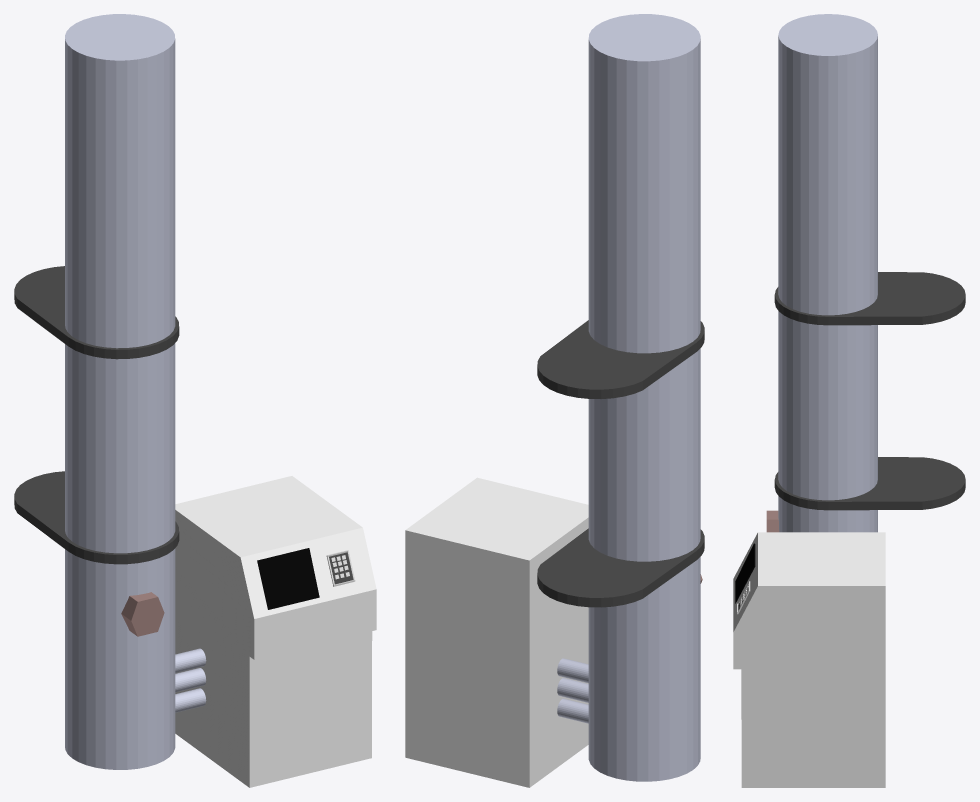
File: secretaly.fbx
3 views of the same model, side by side, from view 1: azimuth 30°, elevation 25°; view 2: azimuth 150°, elevation 25°; view 3: azimuth 270°, elevation 25° (orthographic). The views are drawn at different scales.
Visible parts, largest first — view 1: 円柱, 立方体, 円柱.001, 円柱.002, 立方体.002, 立方体.001; view 2: 円柱, 立方体, 円柱.001, 円柱.002, 円柱.004, 円柱.006, 円柱.003; view 3: 円柱, 立方体, 円柱.001, 円柱.002, 立方体.002.
Part boxes in pixels (x1,y1,x2,y2): 円柱: (65, 14, 175, 769); 立方体: (175, 476, 376, 787); 円柱.001: (14, 471, 179, 564); 円柱.002: (14, 266, 179, 359); 立方体.002: (257, 548, 319, 609); 立方体.001: (121, 592, 164, 636); 円柱: (588, 14, 700, 781); 立方体: (405, 477, 588, 787); 円柱.001: (537, 528, 704, 607); 円柱.002: (537, 320, 704, 398); 円柱.004: (557, 698, 588, 723); 円柱.006: (557, 658, 588, 683); 円柱.003: (557, 678, 588, 702); 円柱: (778, 14, 877, 532); 立方体: (733, 532, 885, 787); 円柱.001: (774, 457, 965, 510); 円柱.002: (774, 272, 965, 325); 立方体.002: (735, 543, 755, 603).
Bounding box in the file's own units: 572 × 1576 × 500.
